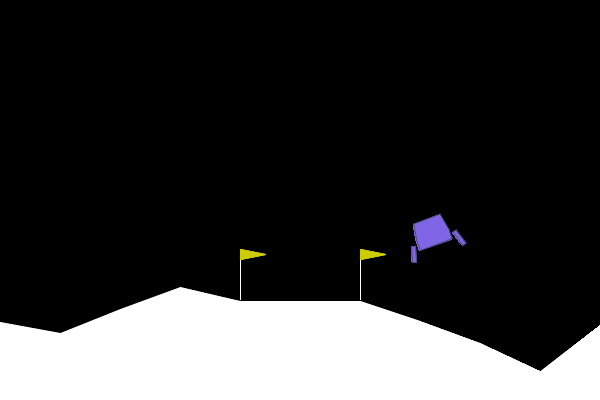lander: (398, 207, 468, 266)
